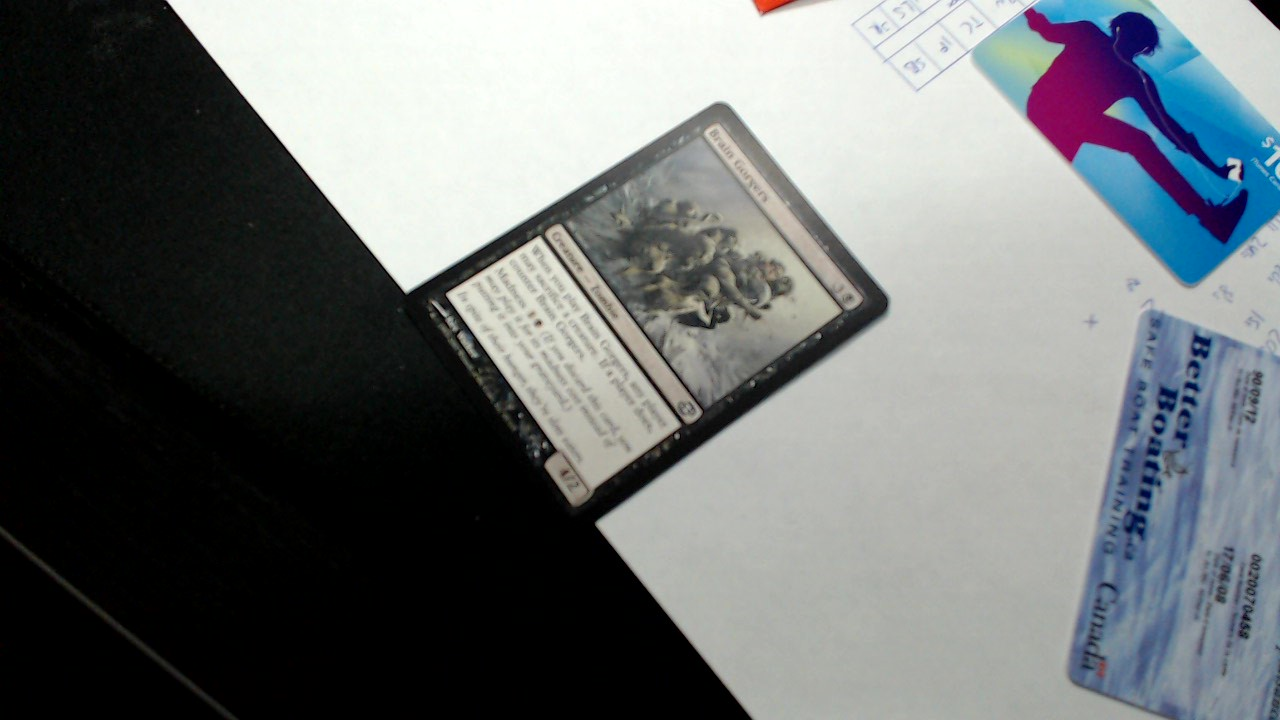MTG Card: (378, 93, 896, 533)
